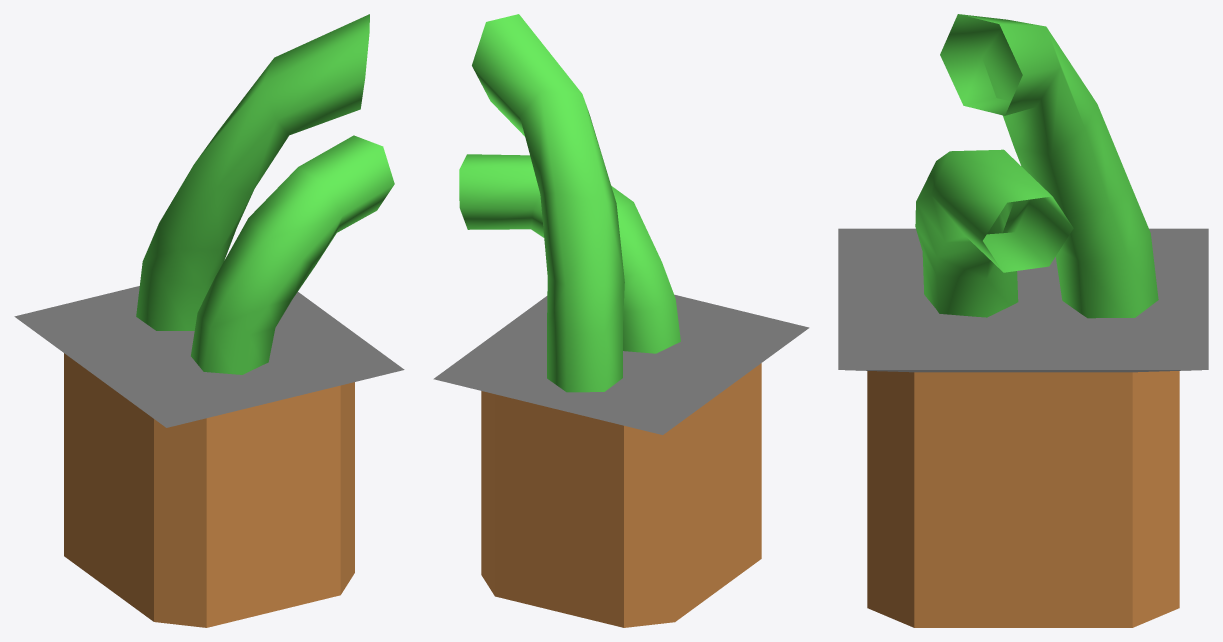
The model's file is Modulo de Conectores 2.fbx.
The picture shows the model from 3 angles, left to right: view 1: azimuth 30°, elevation 25°; view 2: azimuth 150°, elevation 25°; view 3: azimuth 270°, elevation 25°; orthographic projection. The views are drawn at different scales.
Parts seen in each view (by area): view 1: Cube.001; view 2: Cube.001; view 3: Cube.001.
Boxes of the visible parts, x1=… form: Cube.001: x1=14, y1=14, x2=404, y2=627; Cube.001: x1=433, y1=14, x2=809, y2=627; Cube.001: x1=838, y1=14, x2=1208, y2=627.
Size of the model in its own units: 286 by 496 by 263.
